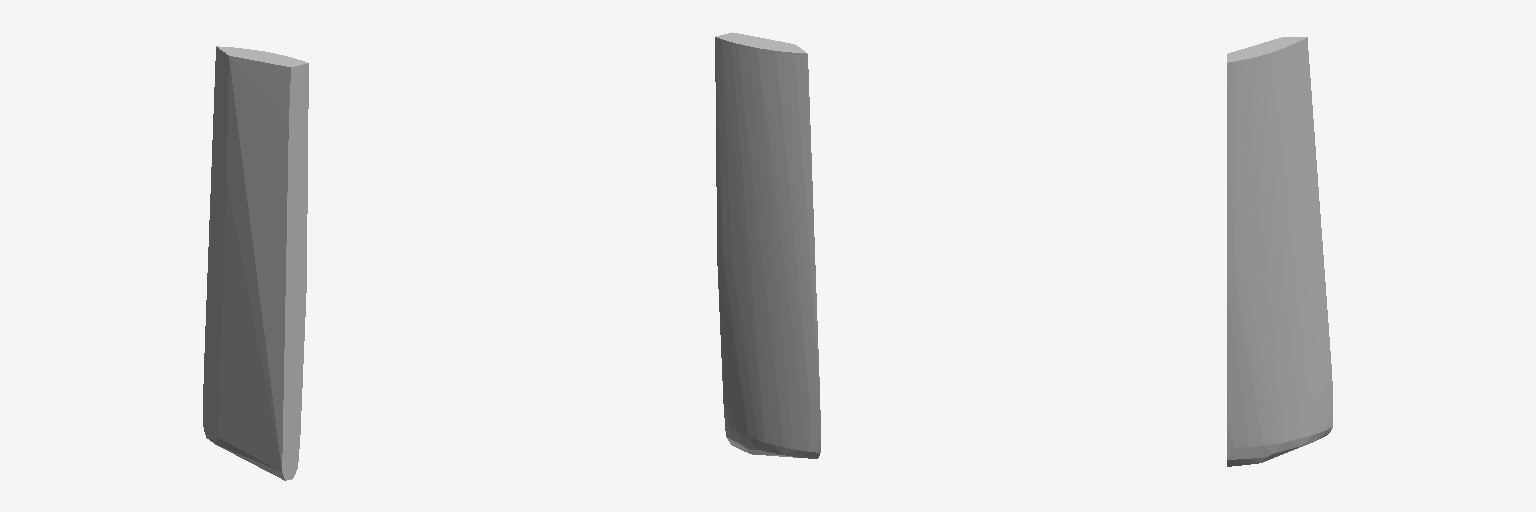
The model's file is phantom-elastrat_collision_8.obj.
3 views of the same model, side by side, from view 1: azimuth 30°, elevation 25°; view 2: azimuth 210°, elevation 25°; view 3: azimuth 270°, elevation 25° (orthographic).
Size of the model in its own units: 0.005 by 0.0378 by 0.0089.